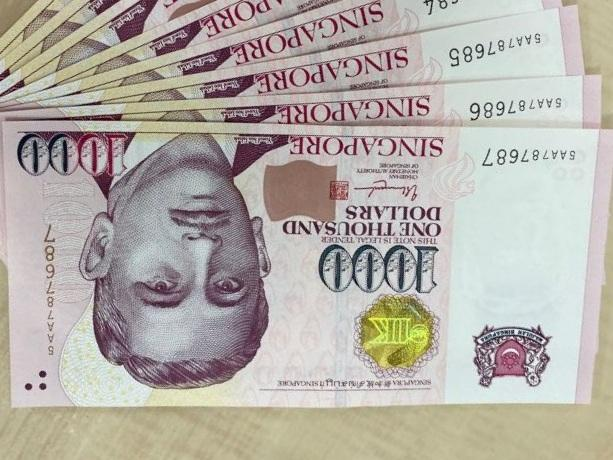1000SingaporeDollar: (12, 128, 588, 405)
